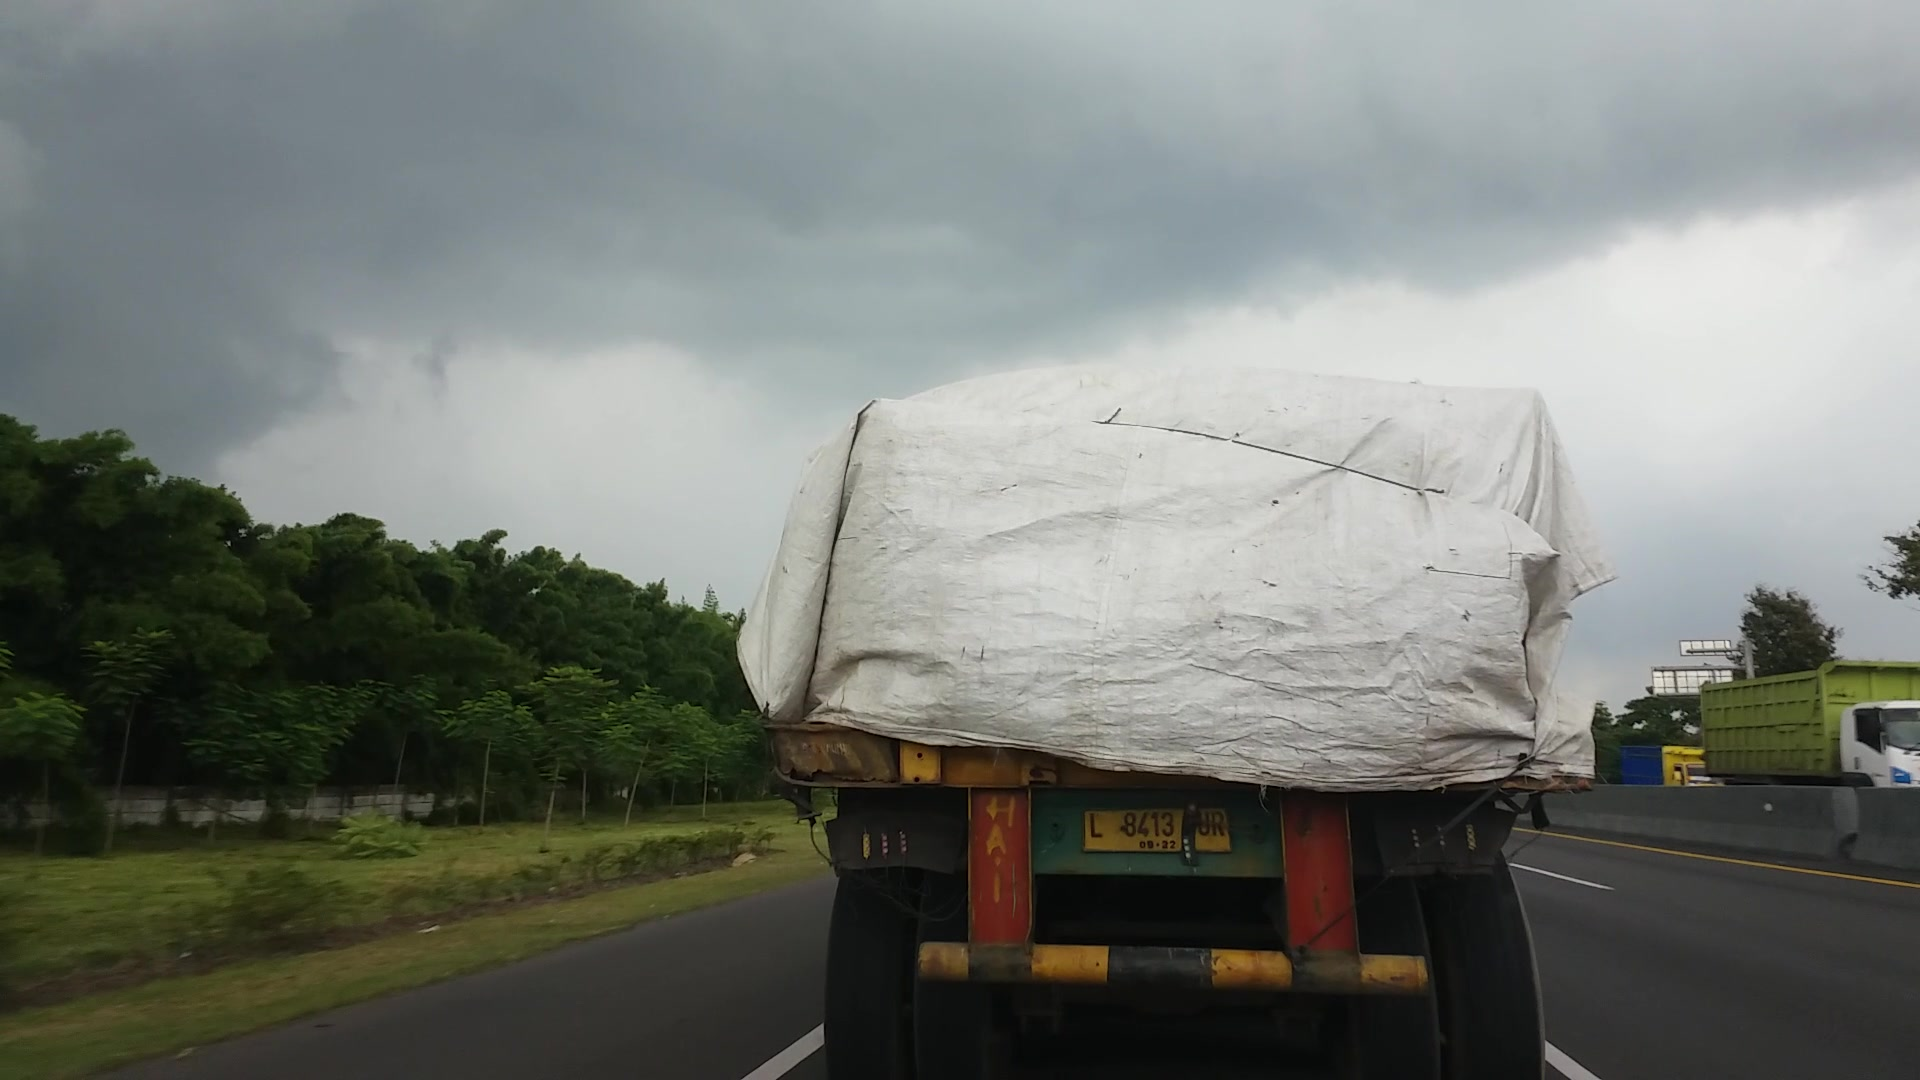plate_positive: (1083, 808, 1232, 855)
